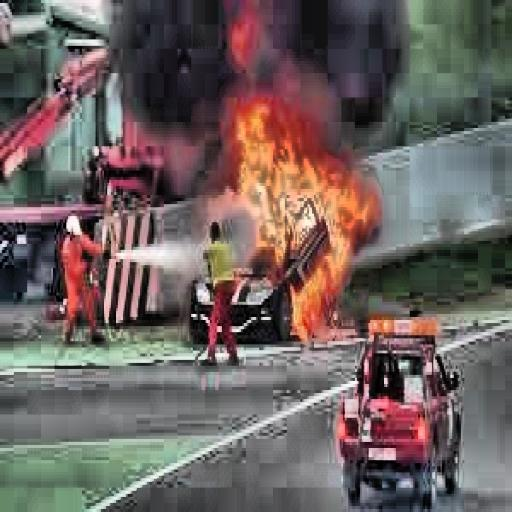fire: (218, 97, 388, 317)
